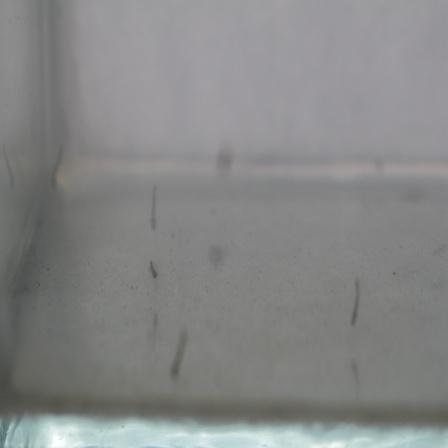Jentik-Nyamuk: (345, 274, 366, 330), (143, 257, 164, 284)
